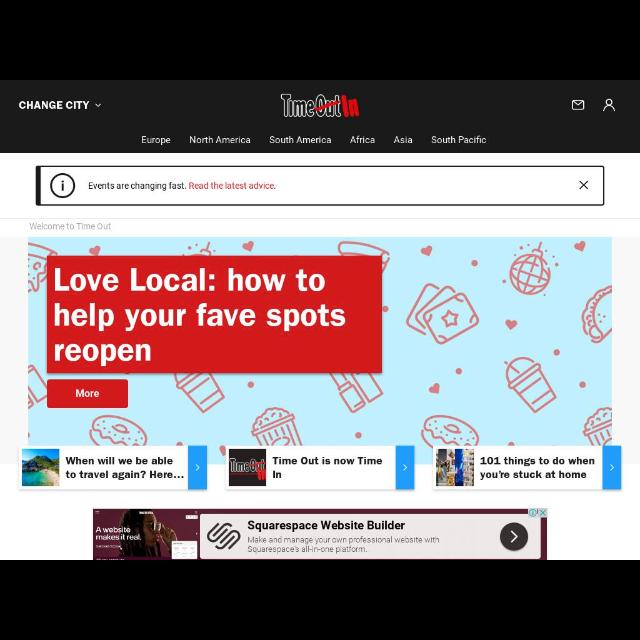icon: (602, 98, 616, 112), (570, 100, 586, 110), (579, 180, 589, 190), (195, 462, 201, 472), (609, 462, 615, 472), (94, 102, 102, 108), (402, 463, 408, 471)
iframe: (93, 509, 547, 559)
image: (28, 237, 612, 447), (280, 92, 360, 118), (436, 448, 474, 488), (22, 448, 60, 486), (230, 448, 266, 486), (50, 174, 76, 198)
multitab: (140, 136, 486, 144)
spinner: (18, 100, 102, 110)
text: (480, 456, 594, 482), (64, 456, 186, 480), (272, 456, 382, 478), (89, 182, 278, 192), (19, 100, 90, 110), (29, 222, 113, 230), (268, 135, 332, 145), (189, 135, 251, 145), (431, 136, 487, 144), (142, 135, 170, 145), (348, 136, 376, 144), (393, 136, 413, 144)
